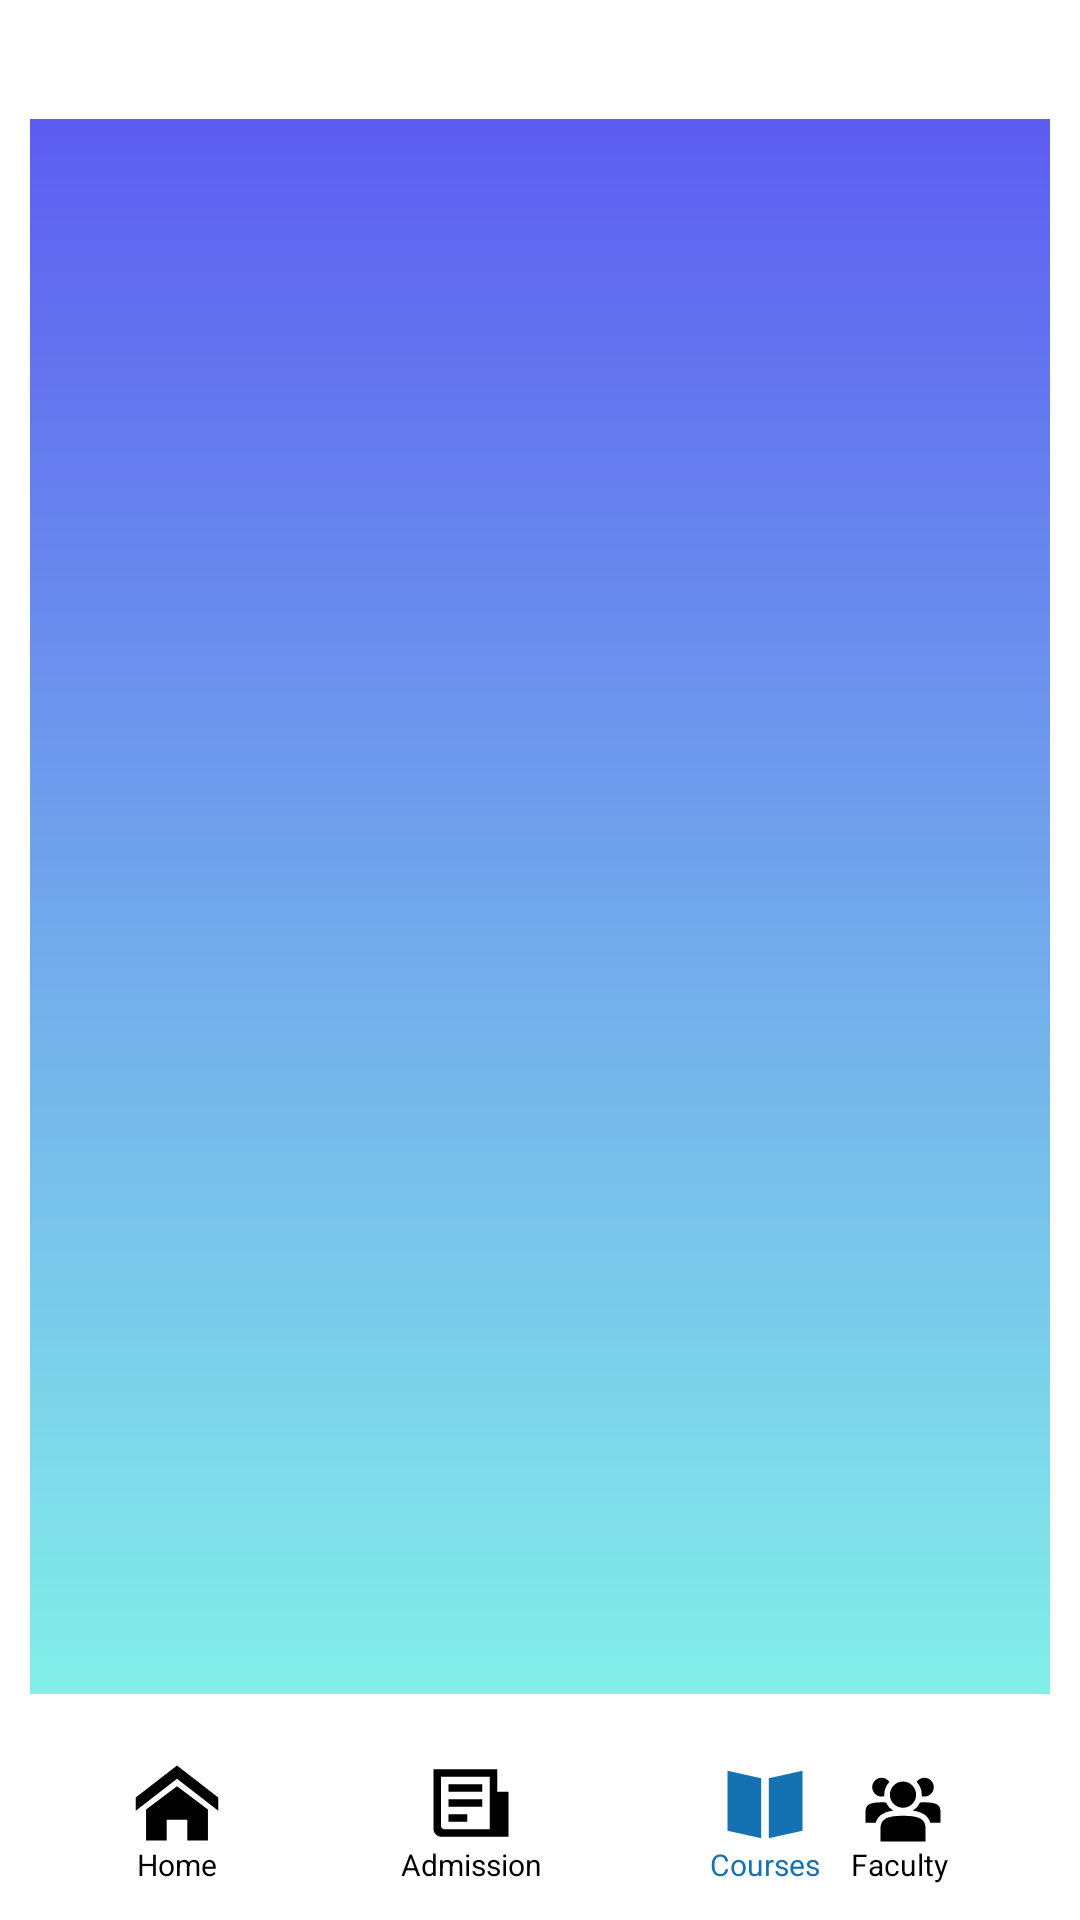

Icons on this 1080 x 1920 Android screen, each with its box as (x1, y1, x2, y2):
book: (711, 1771, 867, 1877)
